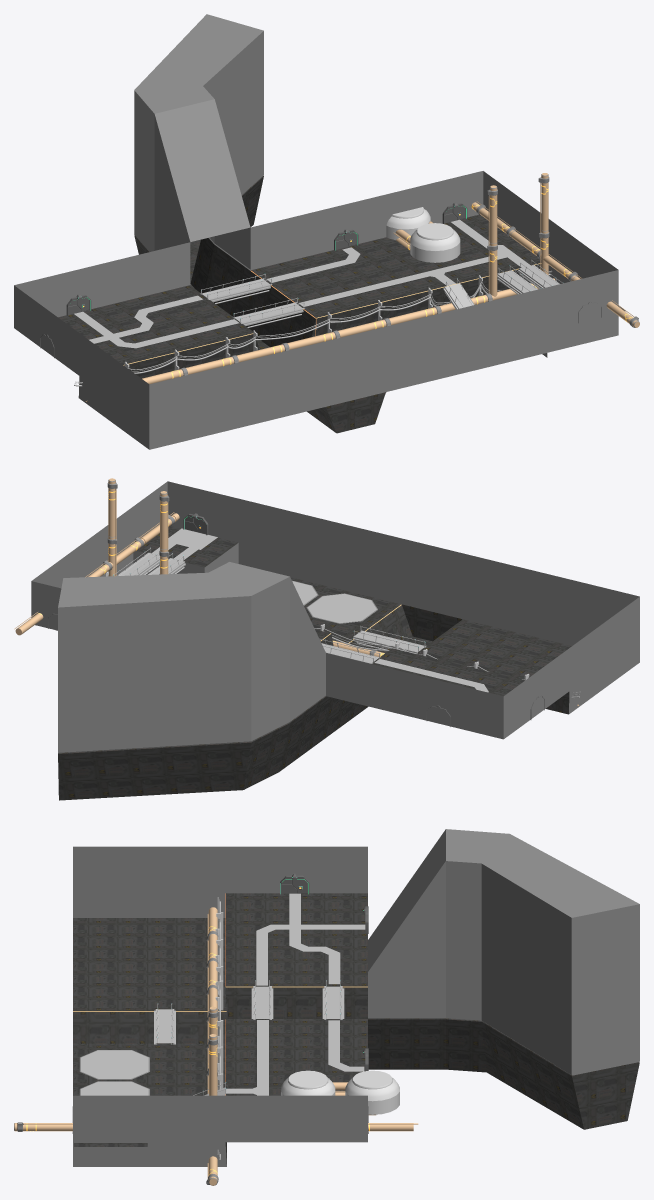
The picture shows the model from 3 angles, top to bottom: view 1: azimuth 30°, elevation 25°; view 2: azimuth 150°, elevation 25°; view 3: azimuth 270°, elevation 25°; orthographic projection. The views are drawn at different scales.
Parts seen in each view (by area): view 1: Plane001, Line031, Cylinder024, Cylinder023, Loft017; view 2: Plane001, Box007, Plane002, Line031, Cylinder014, Cylinder016, Loft006; view 3: Plane001, Line031, Plane002, Cylinder023, Cylinder024, Cylinder016, Loft025, Loft006, Loft001, Cylinder019, Plane007.
Part boxes in pixels (bbox=[...]): Plane001: bbox=[14, 14, 618, 449]; Line031: bbox=[74, 219, 531, 348]; Cylinder024: bbox=[410, 223, 460, 262]; Cylinder023: bbox=[386, 207, 430, 240]; Loft017: bbox=[74, 274, 550, 386]; Plane001: bbox=[31, 481, 639, 800]; Box007: bbox=[133, 526, 238, 574]; Plane002: bbox=[292, 580, 377, 623]; Line031: bbox=[55, 528, 488, 692]; Cylinder014: bbox=[159, 491, 169, 551]; Cylinder016: bbox=[107, 478, 117, 539]; Loft006: bbox=[354, 631, 424, 651]; Plane001: bbox=[73, 829, 639, 1166]; Line031: bbox=[226, 893, 365, 1095]; Plane002: bbox=[79, 1050, 149, 1095]; Cylinder023: bbox=[345, 1070, 399, 1114]; Cylinder024: bbox=[281, 1070, 335, 1095]; Cylinder016: bbox=[208, 1034, 217, 1095]; Loft025: bbox=[325, 986, 341, 1019]; Loft006: bbox=[157, 1009, 172, 1043]; Loft001: bbox=[254, 986, 270, 1019]; Cylinder019: bbox=[14, 1122, 72, 1131]; Plane007: bbox=[280, 873, 309, 894].
Bounding box in the file's own units: 4344 × 1579 × 4180.
